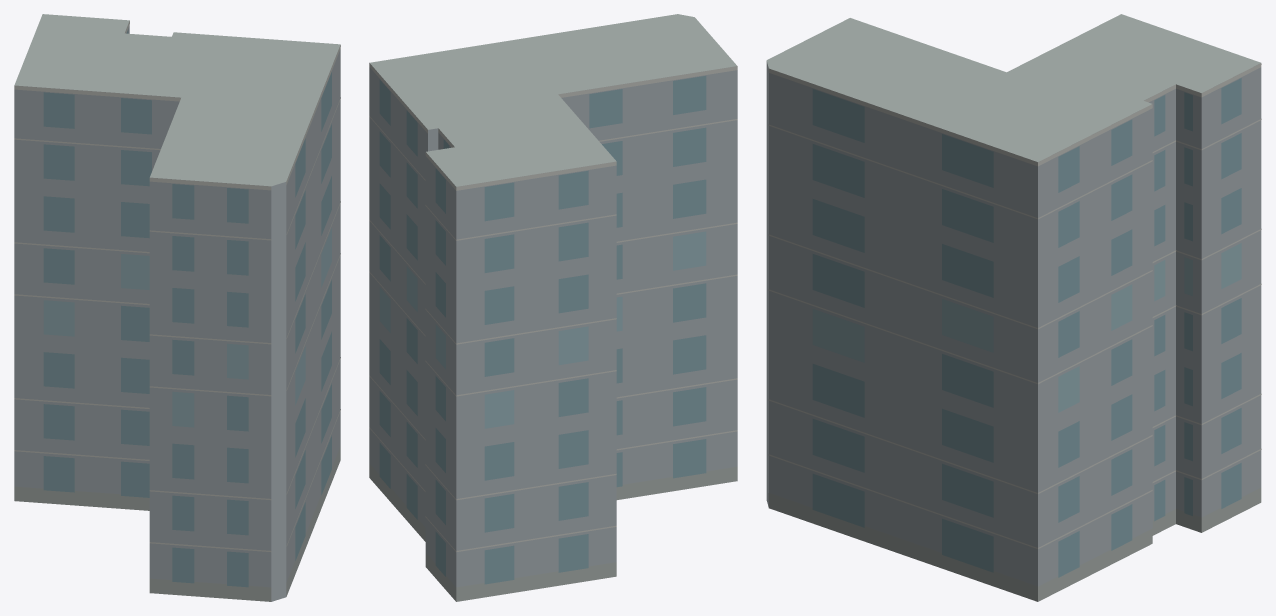
The model's file is survey-upis-32632962.glb.
3 renders of one model, left to right at view 1: azimuth 30°, elevation 25°; view 2: azimuth 150°, elevation 25°; view 3: azimuth 270°, elevation 25°, orthographic. The views are drawn at different scales.
Parts seen in each view (by area): view 1: survey-upis-32632962.tmp; view 2: survey-upis-32632962.tmp; view 3: survey-upis-32632962.tmp.
Part boxes in pixels (x1,y1,x2,y2): survey-upis-32632962.tmp: [14, 14, 340, 601]; survey-upis-32632962.tmp: [369, 14, 737, 601]; survey-upis-32632962.tmp: [766, 14, 1261, 601].
Size of the model in its own units: 18.01 by 24.9 by 25.41.
